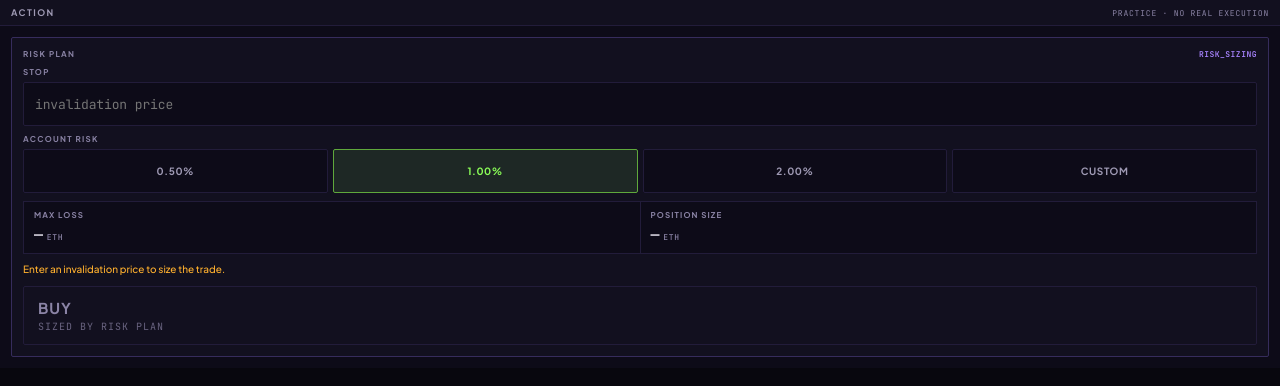
Scenario: review repairs › says a stop is an instruction where the loss figure is read
This screenshot has width=1280, height=386.
Type "0.0235" into the field named "Stop price".
click(640, 104); type("0.0235")  # box [23, 82, 1257, 126]
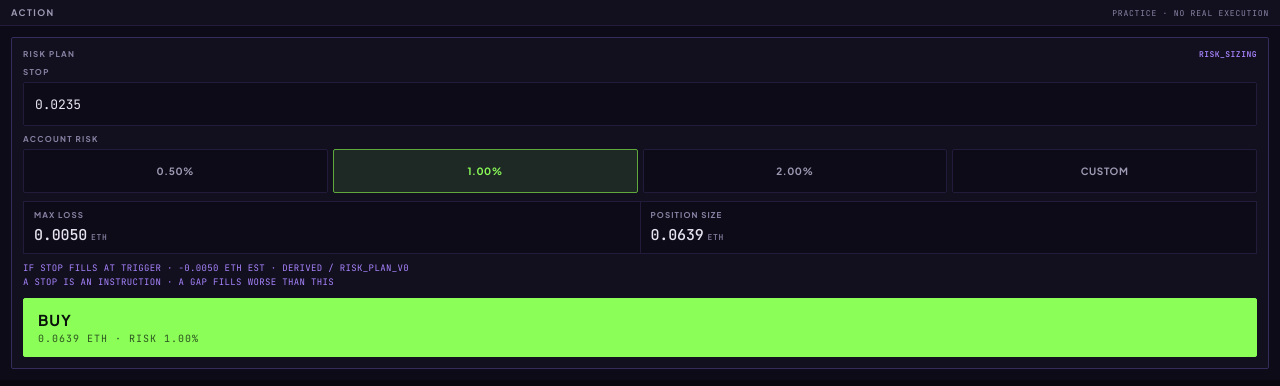
Expected: the text "IF STOP FILLS AT TRIGGER" is shown, [23, 262, 178, 274]
Expected: the text "A GAP FILLS WORSE THAN THIS" is shown, [23, 276, 334, 288]
Expected: the text "DERIVED / RISK_PLAN_V0" is shown, [219, 262, 409, 274]
